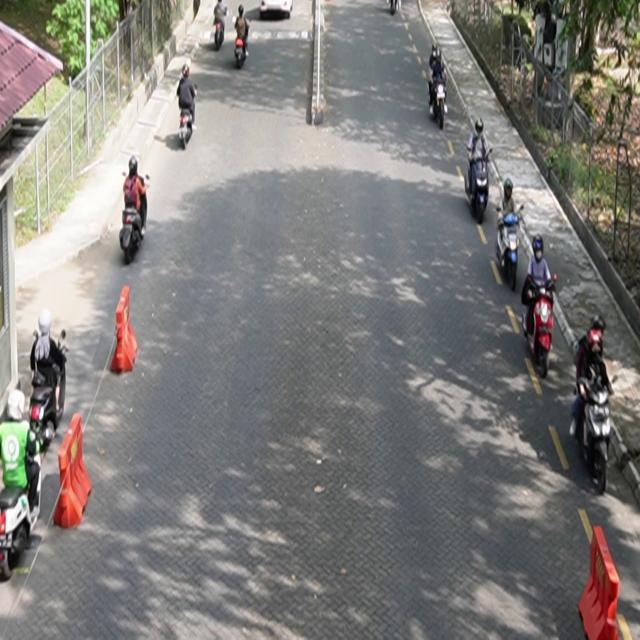car: (260, 1, 294, 21)
